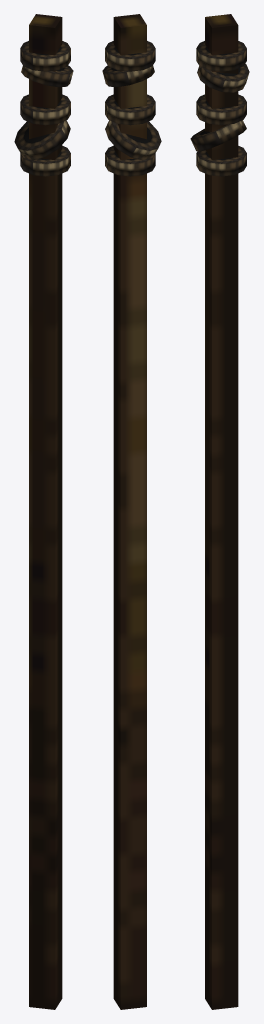
Rendered from EnvObjMD_Pole_A_A.FBX.
3 renders of one model, left to right at view 1: azimuth 30°, elevation 25°; view 2: azimuth 150°, elevation 25°; view 3: azimuth 330°, elevation 25°, orthographic.
Parts seen in each view (by area): view 1: EnvObjMD_Pole_A_A; view 2: EnvObjMD_Pole_A_A; view 3: EnvObjMD_Pole_A_A.
Boxes of the visible parts, x1,y1,x2,y2 form: EnvObjMD_Pole_A_A: (14,14,73,1009); EnvObjMD_Pole_A_A: (102,14,161,1009); EnvObjMD_Pole_A_A: (190,14,249,1009).
Bounding box in the file's own units: 22.29 × 400 × 18.73.
1 material, 1 textured.
